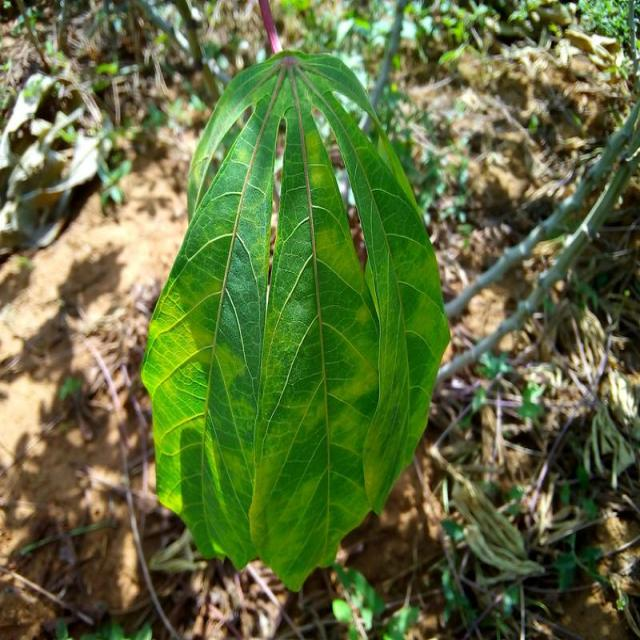cassava leaf: (139, 48, 451, 591)
